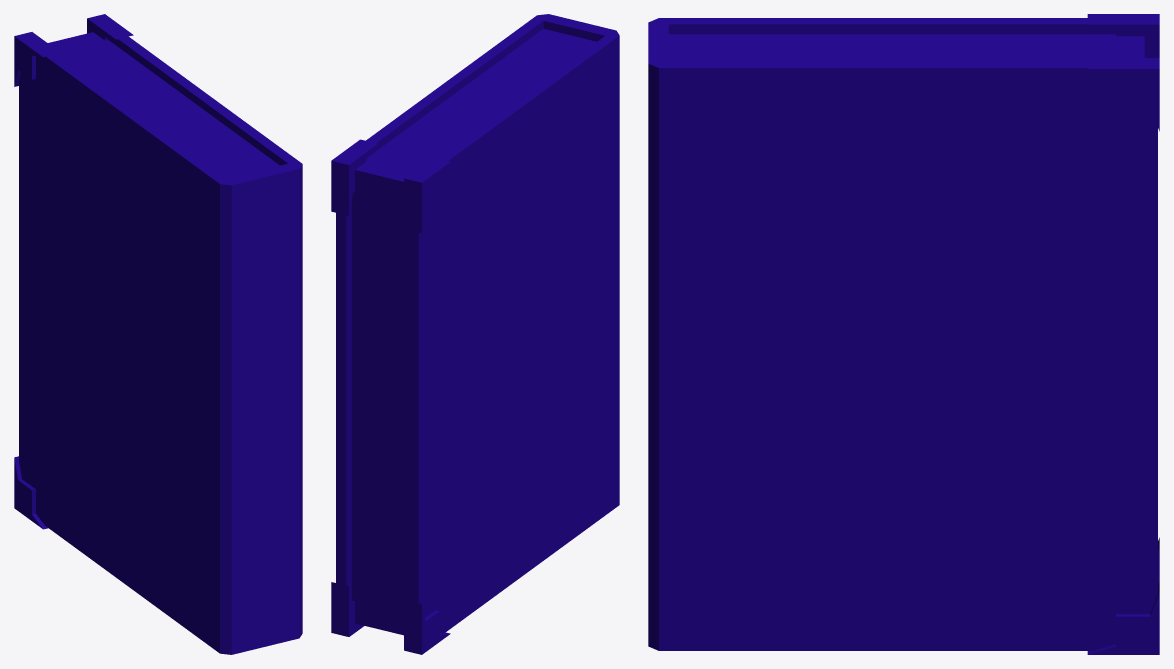
Rendered from CG_Model_TownInt_Book1_Mar24_ChrisMcknight.FBX.
3 views of the same model, side by side, from view 1: azimuth 30°, elevation 25°; view 2: azimuth 150°, elevation 25°; view 3: azimuth 270°, elevation 25° (orthographic). The views are drawn at different scales.
Visible parts, largest first — view 1: Book1; view 2: Book1; view 3: Book1.
Boxes of the visible parts, x1,y1,x2,y2 form: Book1: (14, 14, 302, 654); Book1: (331, 14, 619, 654); Book1: (648, 14, 1159, 654).
Bounding box in the file's own units: 1.13 × 5.63 × 4.45.
